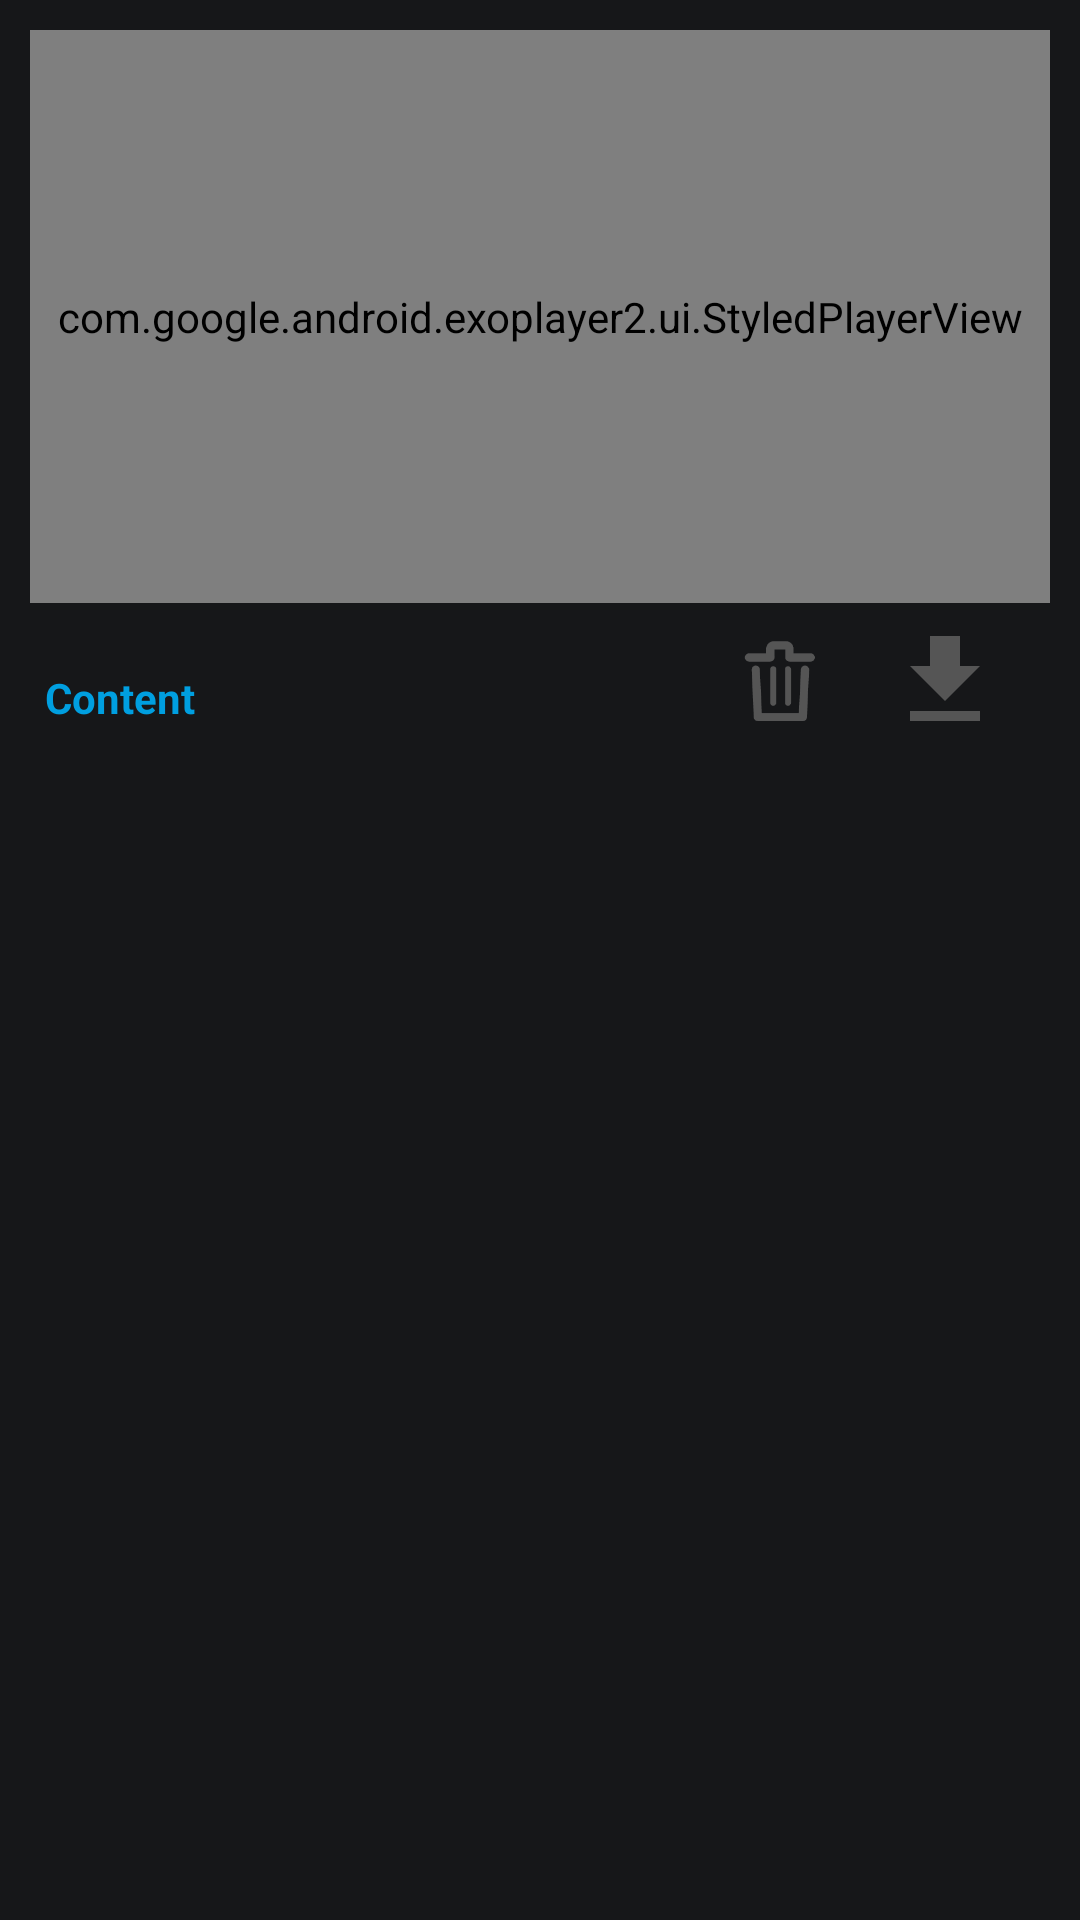

Screen size 1080w x 1920h. Icon name, then its center in pixels as [x,y]:
Delete button: [780,681]
Download menu button: [945,678]
